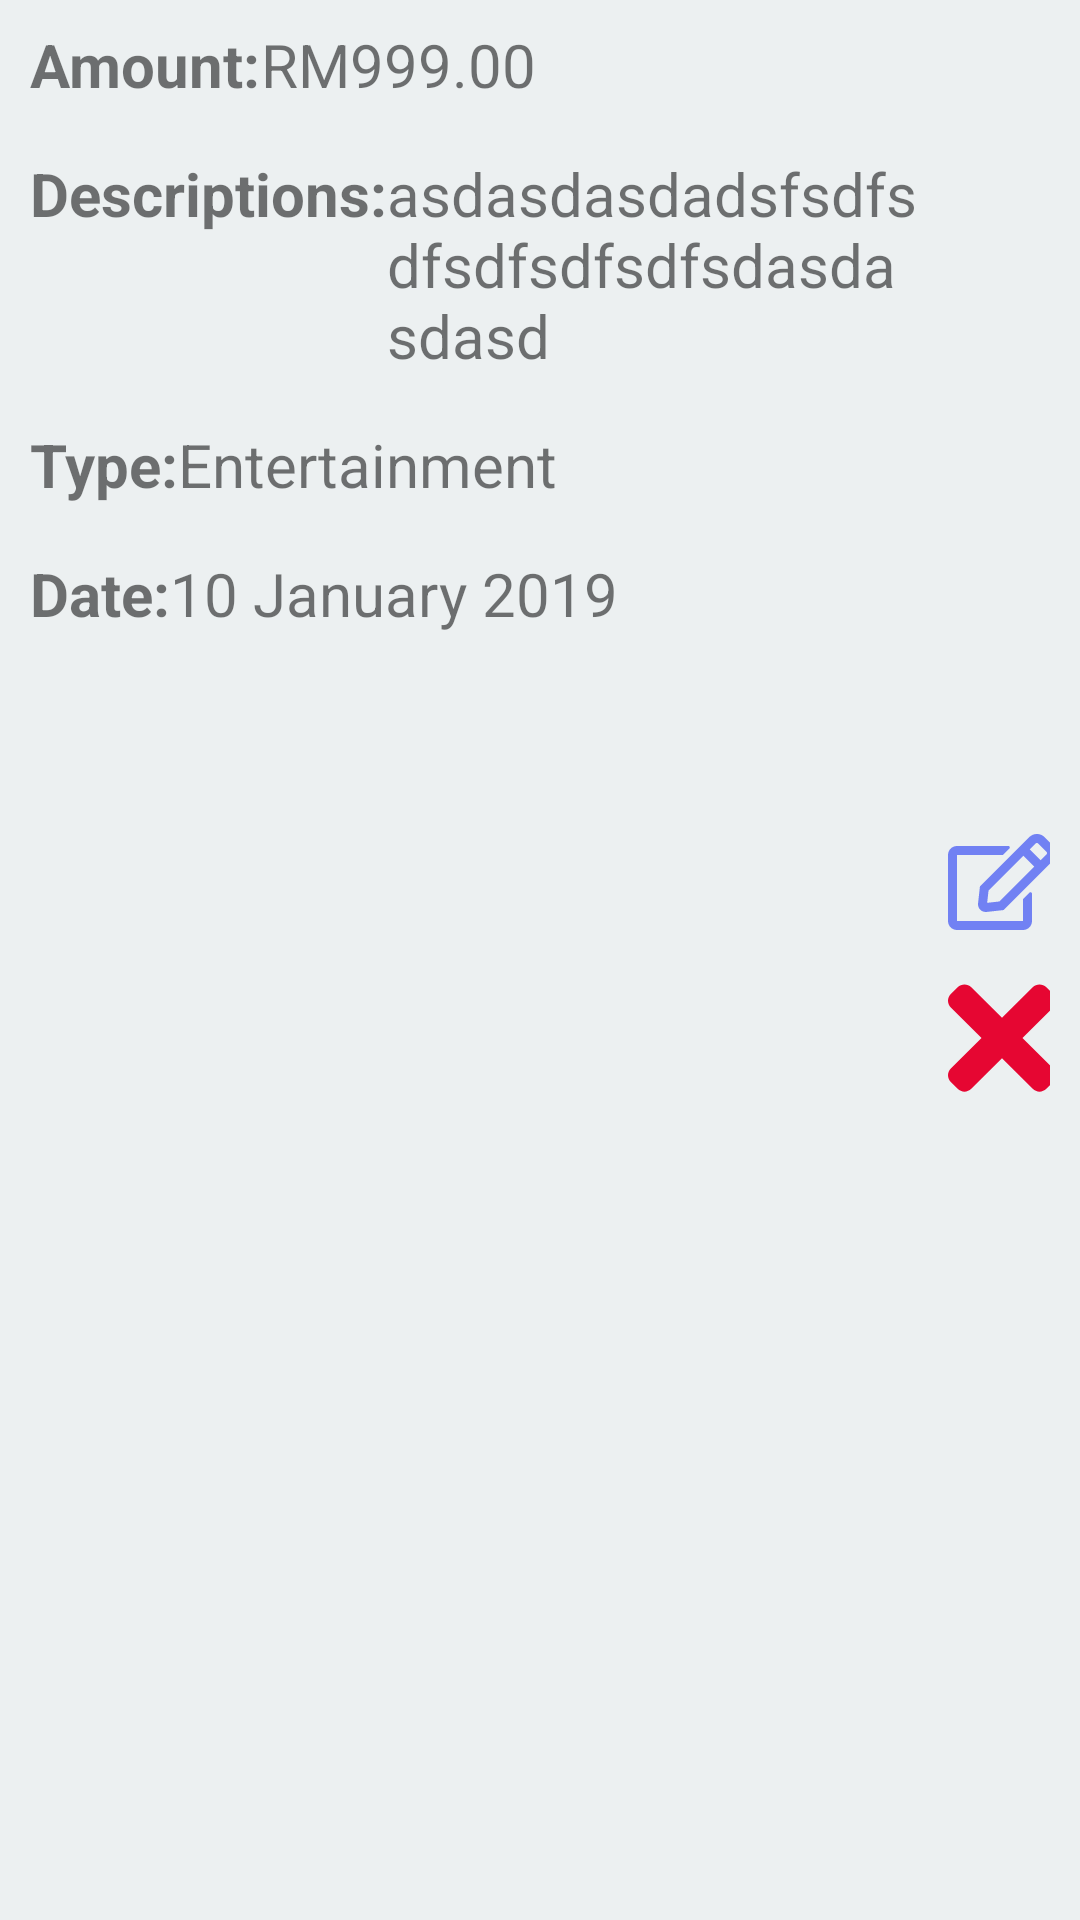

Icon click points for this 1080×1920 phone screenshot, format (x,y):
delete: (999,1038)
edit: (999,882)
